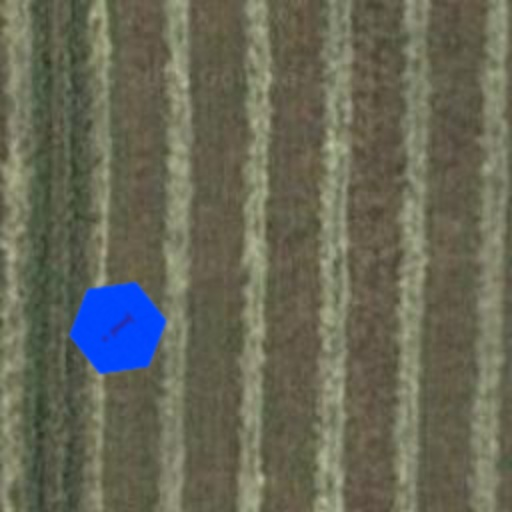hexagon: (48, 258, 188, 398)
